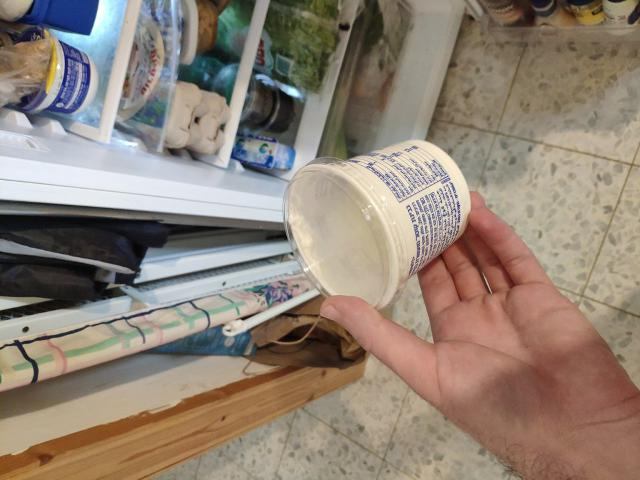cotage: (285, 147, 464, 288)
